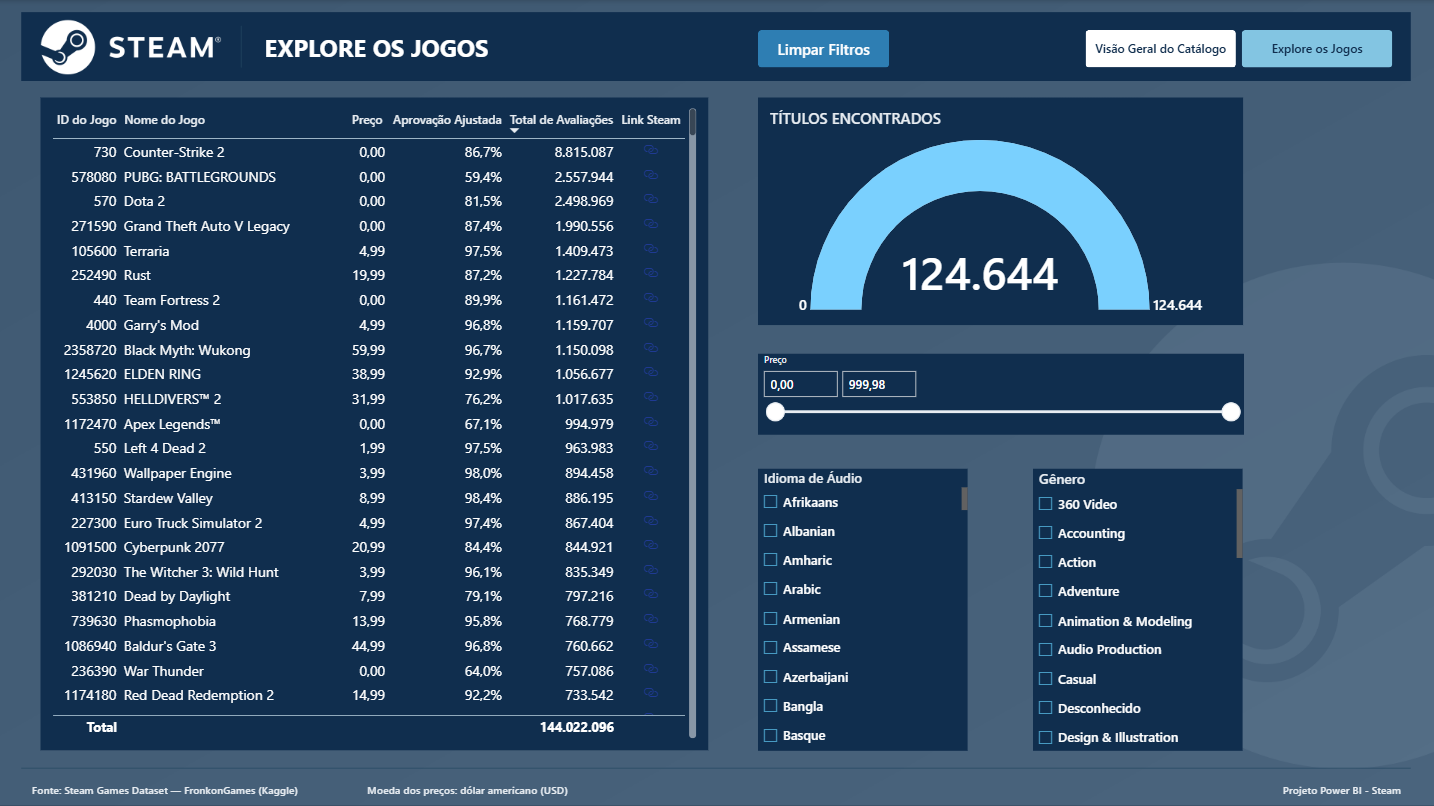

Layout of this report page (visuals, bound fields, positions):
{"tool":"powerbi","page":{"name":"Explore os Jogos","canvas":[1920,1080],"ordinal":1},"visuals":[{"type":"tableEx","fields":{"Values":["steam_dataset_limpo.ID do Jogo","steam_dataset_limpo.Nome do Jogo","steam_dataset_limpo.Preço","steam_dataset_limpo.Aprovação Ajustada","steam_dataset_limpo.Total de Avaliações","steam_dataset_limpo.Link Steam"]},"box":[56.8,130.2,891.7,871.6],"z":0},{"type":"slicer","title":"aaaa","fields":{"Values":["steam_dataset_limpo.Preço"]},"box":[1015.2,472.5,648.3,108.3],"z":1000},{"type":"slicer","fields":{"Values":["DimGenero.Gênero"]},"box":[1382.6,626.2,280,376.7],"z":2000},{"type":"slicer","fields":{"Values":["DimIdioma.Idioma de Áudio"]},"box":[1015.2,626.2,280,376.7],"z":3000},{"type":"gauge","title":"TÍTULOS ENCONTRADOS","fields":{"MaxValue":["steam_dataset_limpo.Total de Jogos do Catálogo"],"Y":["steam_dataset_limpo.Total de Jogos"]},"box":[1015.2,130.2,647.9,303.9],"z":4000},{"type":"textbox","box":[355.7,41.7,317.3,51.8],"z":5000},{"type":"textbox","box":[36.7,1045,733.3,25],"z":6000},{"type":"textbox","box":[1706,1046,178,24],"z":7000},{"type":"actionButton","box":[1015.2,40.1,175.3,50.1],"z":8000},{"type":"pageNavigator","box":[1452.7,40.1,410.8,50.1],"z":9000}]}

Visuals, with their boxes in screenshot pixels (x1, y1, x2, y2), scaled from the page's 1920x1080 canvas onto the 1434x806 screenshot:
tableEx - steam_dataset_limpo.ID do Jogo x steam_dataset_limpo.Nome do Jogo: detection(42, 97, 708, 748)
"aaaa" slicer: detection(758, 353, 1242, 433)
slicer - DimGenero.Gênero: detection(1033, 467, 1242, 748)
slicer - DimIdioma.Idioma de Áudio: detection(758, 467, 967, 748)
"TÍTULOS ENCONTRADOS" gauge: detection(758, 97, 1242, 324)
textbox: detection(266, 31, 503, 70)
textbox: detection(27, 780, 575, 799)
textbox: detection(1274, 781, 1407, 799)
actionButton: detection(758, 30, 889, 67)
pageNavigator: detection(1085, 30, 1392, 67)
